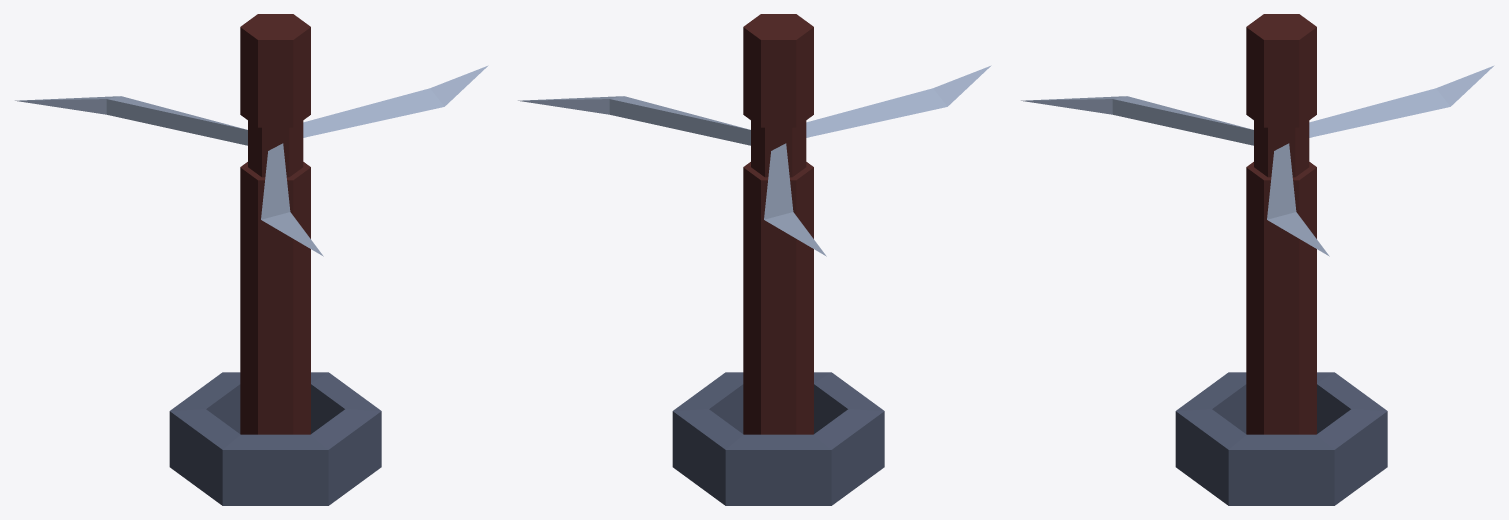
File: trampa 2.fbx
3 views of the same model, side by side, from view 1: azimuth 30°, elevation 25°; view 2: azimuth 150°, elevation 25°; view 3: azimuth 270°, elevation 25° (orthographic).
Visible parts, largest first — view 1: blade trap, blade trap base; view 2: blade trap, blade trap base; view 3: blade trap, blade trap base.
Part boxes in pixels (x1,y1,x2,y2): blade trap: (15, 14, 488, 434); blade trap base: (169, 372, 381, 505); blade trap: (518, 14, 991, 434); blade trap base: (672, 372, 884, 505); blade trap: (1021, 14, 1494, 434); blade trap base: (1175, 372, 1387, 505).
Size of the model in its own units: 148 by 158 by 155.
